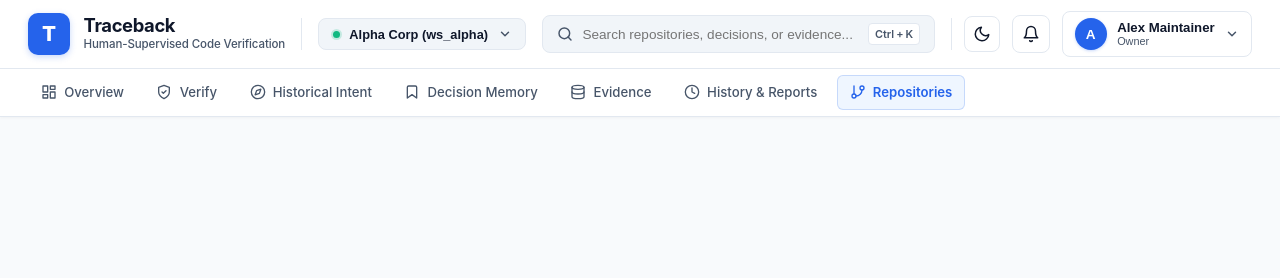
Scenario: Navbar Component — Design #2: Elevated with Workspace Selector › displays Switch Account, Register New Account, and Sign Out in user menu when authenticated
Click the button with aria-label "user account menu" at (1157, 34), box [1062,11,1252,57]
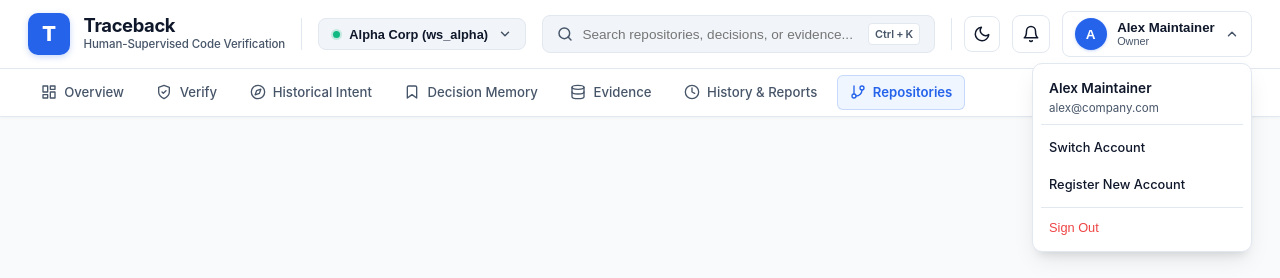
Now the button "Sign Out" is shown, box [1041,213,1243,242]
